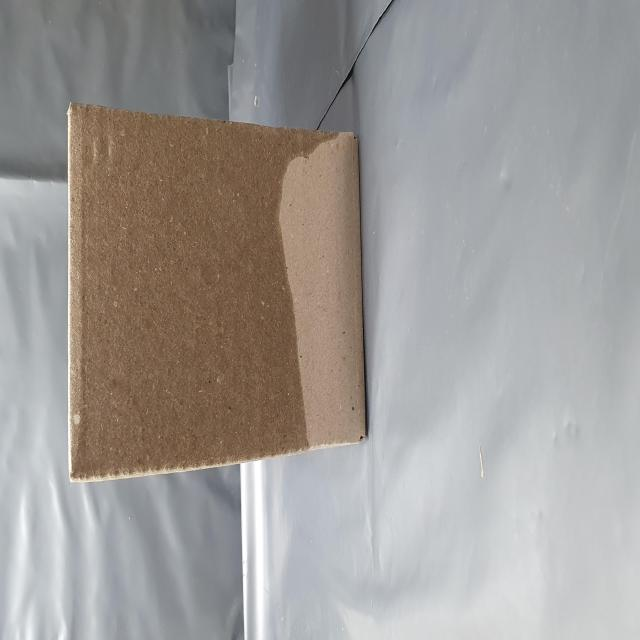wet: (92, 117, 283, 640)
